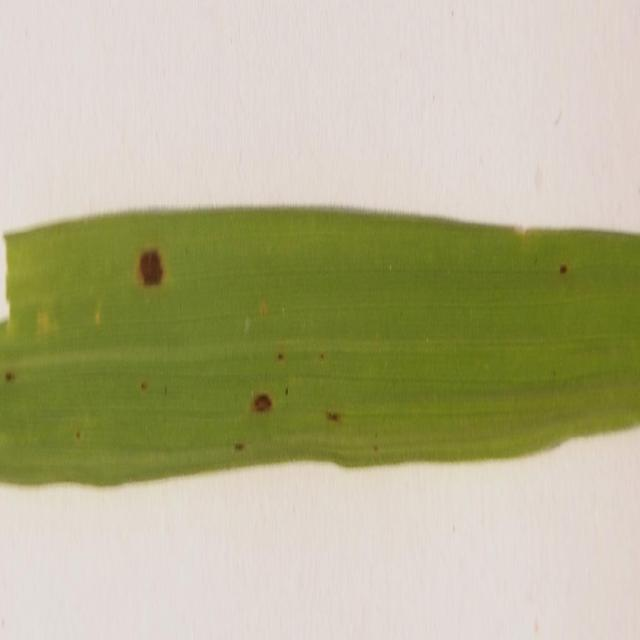Brown_Spot: (136, 218, 169, 305), (0, 341, 31, 420), (312, 377, 349, 437), (246, 359, 272, 437), (553, 231, 574, 289)
